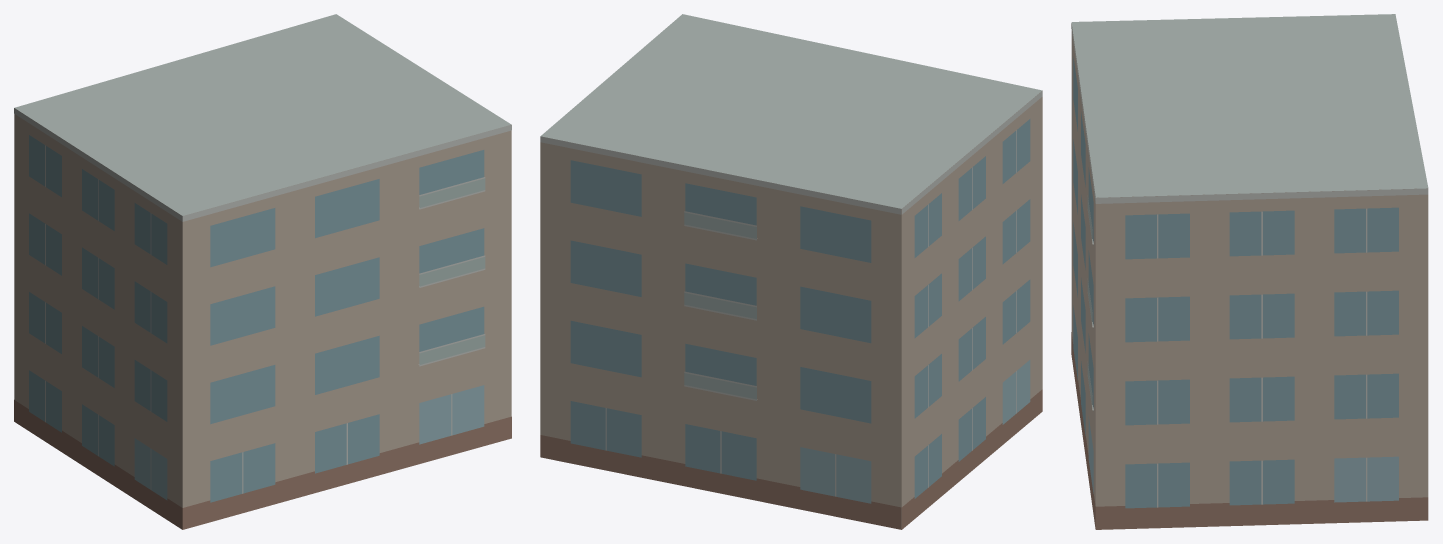
File: survey-upis-32747112.glb
3 renders of one model, left to right at view 1: azimuth 30°, elevation 25°; view 2: azimuth 150°, elevation 25°; view 3: azimuth 270°, elevation 25°, orthographic. The views are drawn at different scales.
Parts seen in each view (by area): view 1: survey-upis-32747112.tmp; view 2: survey-upis-32747112.tmp; view 3: survey-upis-32747112.tmp.
Boxes of the visible parts, box(x1,y1,x2,y2) form: survey-upis-32747112.tmp: box(14, 14, 511, 529); survey-upis-32747112.tmp: box(540, 14, 1042, 529); survey-upis-32747112.tmp: box(1071, 14, 1428, 529).
Size of the model in its own units: 15.62 by 13.15 by 12.82.
